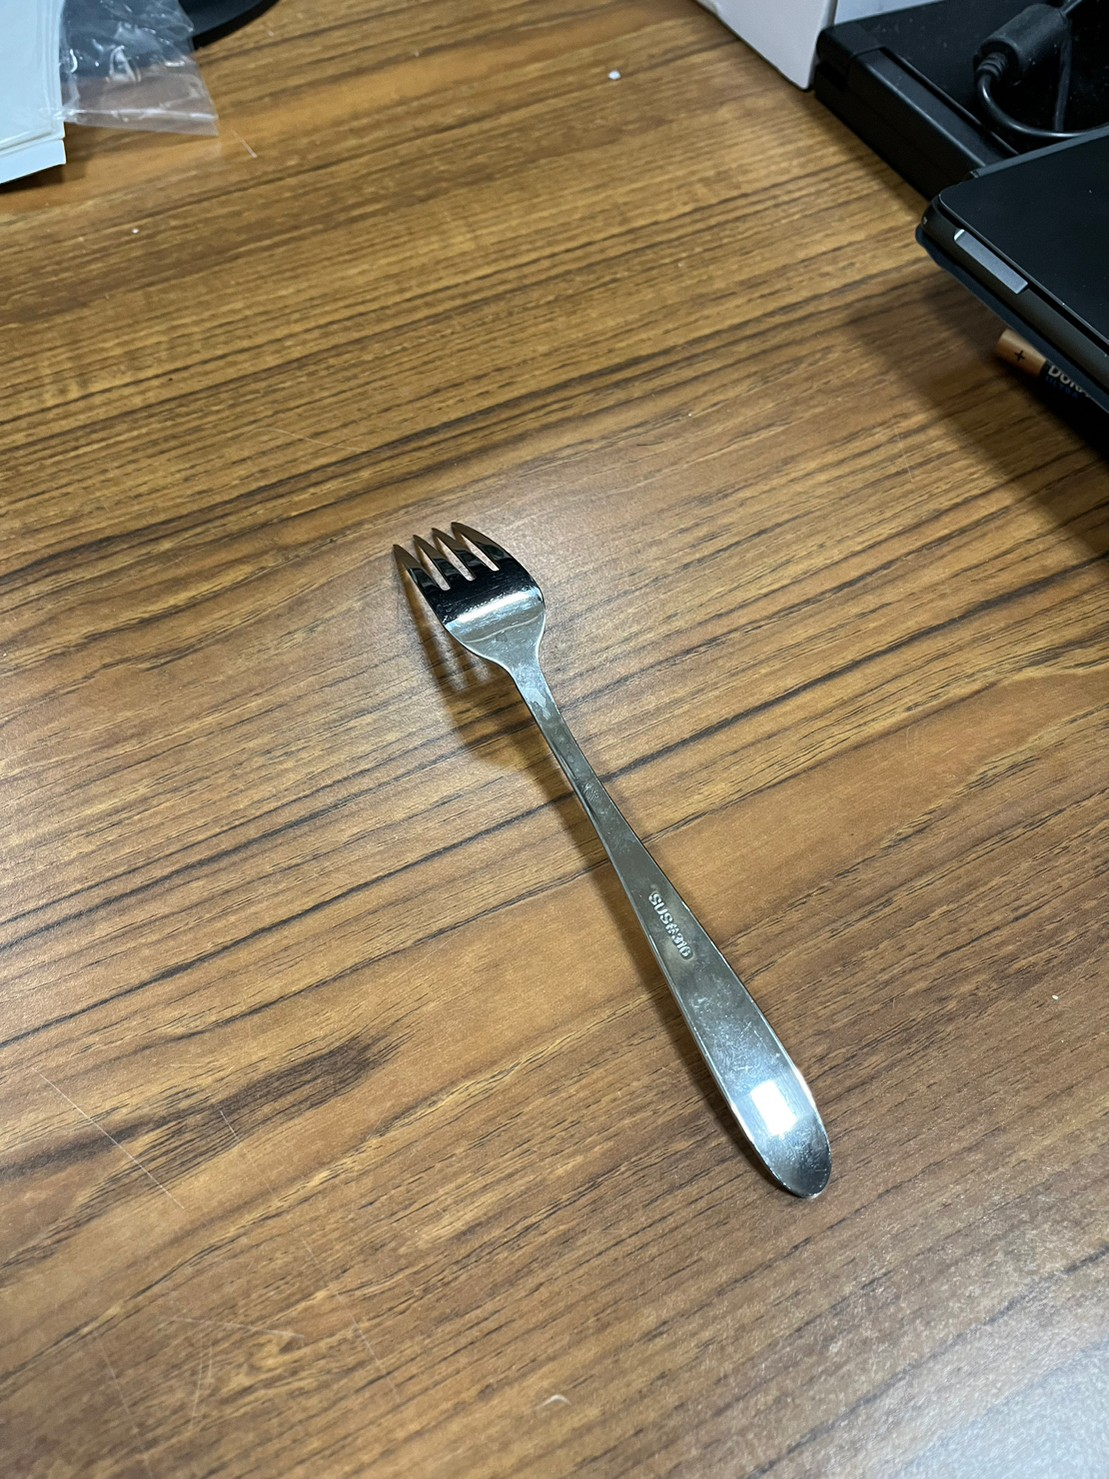fork: (376, 502, 856, 1218)
